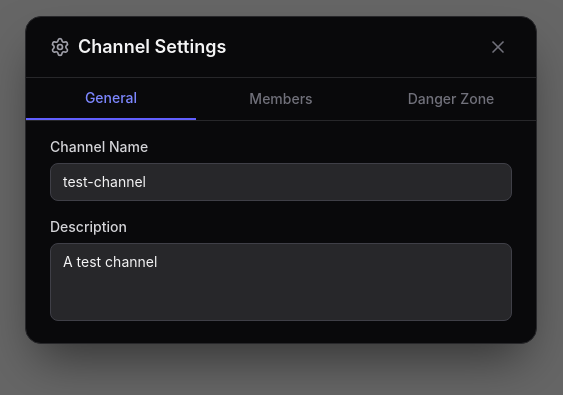
ChannelSettingsModal › archive UI › renders "Archive Channel" UI when is_archived is false
Click the button "Danger Zone".
click(451, 99)  # box [366,78,536,120]
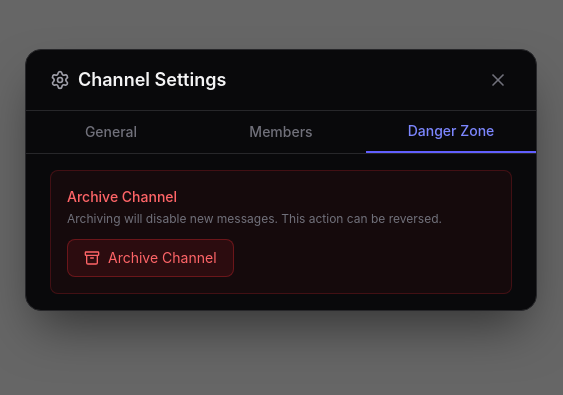
Expected: the text "Archiving will disable new messages. This action can be reversed." is shown, [67,211,495,227]
